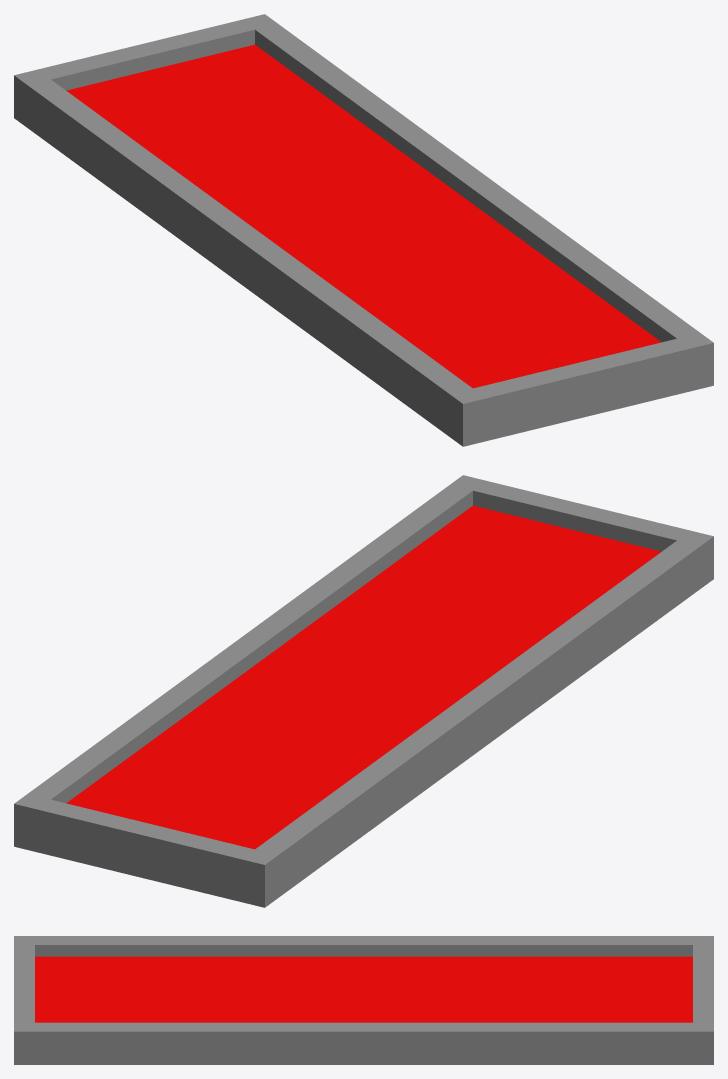
File: m_prop_Billboard_C.FBX
The picture shows the model from 3 angles, top to bottom: view 1: azimuth 30°, elevation 25°; view 2: azimuth 150°, elevation 25°; view 3: azimuth 270°, elevation 25°; orthographic projection. The views are drawn at different scales.
Parts seen in each view (by area): view 1: M_Block_Billboard_C; view 2: M_Block_Billboard_C; view 3: M_Block_Billboard_C.
Boxes of the visible parts, x1=… form: M_Block_Billboard_C: x1=14, y1=14, x2=713, y2=446; M_Block_Billboard_C: x1=14, y1=475, x2=713, y2=907; M_Block_Billboard_C: x1=14, y1=936, x2=713, y2=1064.
Bounding box in the file's own units: 455 × 1411 × 74.3.
